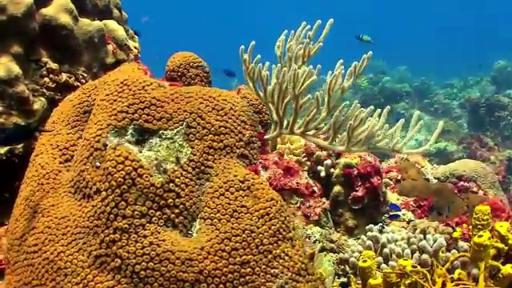Fish: (221, 68, 236, 78), (356, 35, 373, 43), (387, 213, 401, 220), (388, 204, 401, 211), (133, 30, 140, 37)
